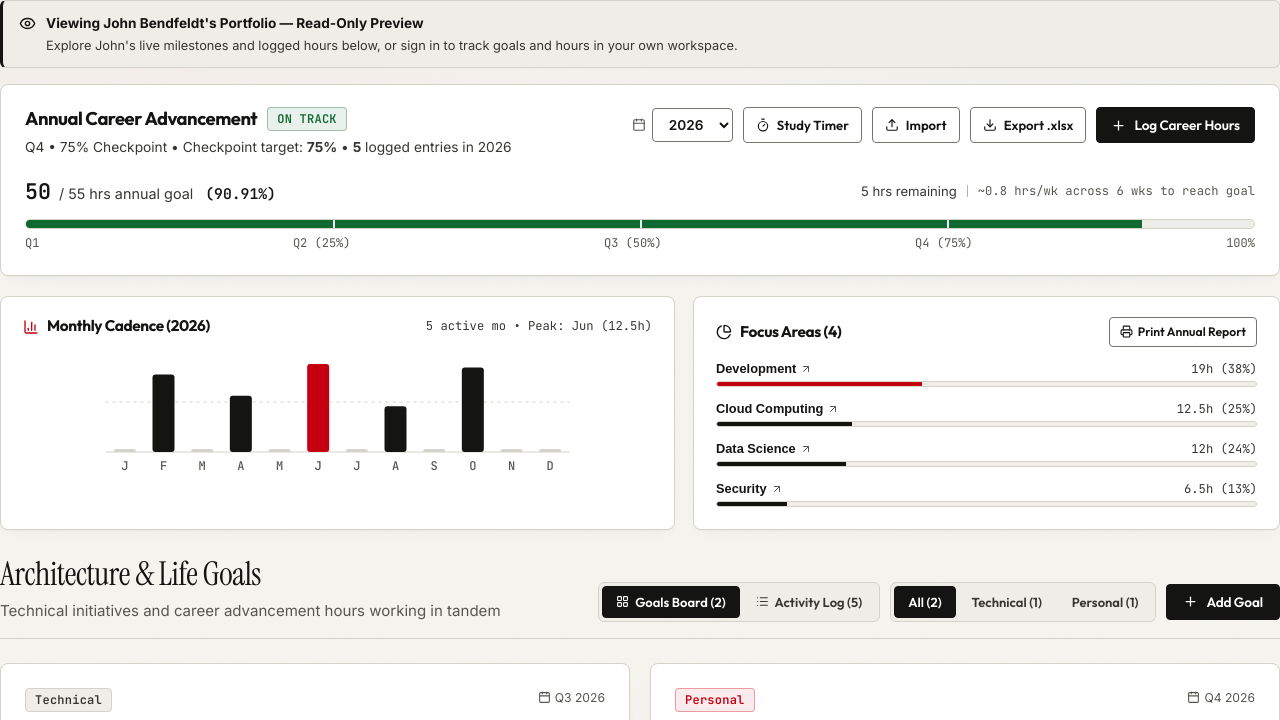
Scenario: UI Components, Modals & Sanitization Boundaries › GoalsSection › filters goals by category and surfaces 403 write-lock banner for guest users
Click the button "Technical (1)": point(1007, 602) [958,586,1056,618]
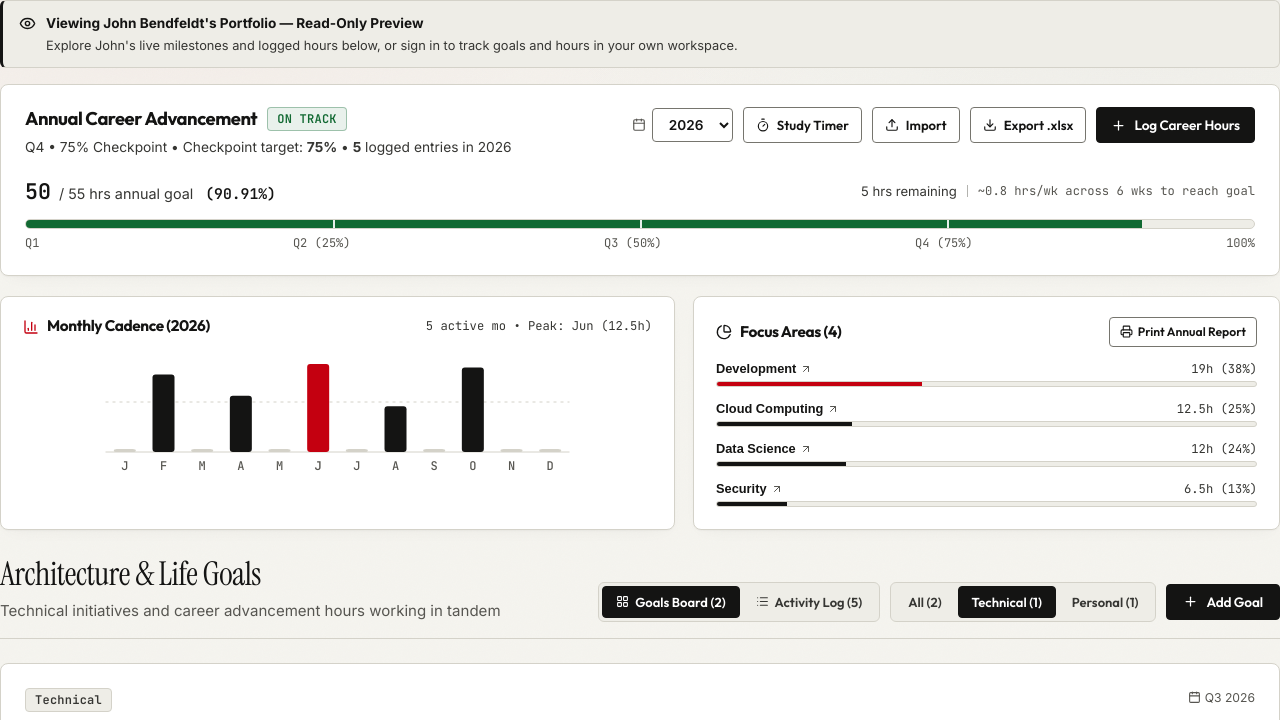
Click the button "Personal (1)": point(1105, 602) [1058,586,1152,618]
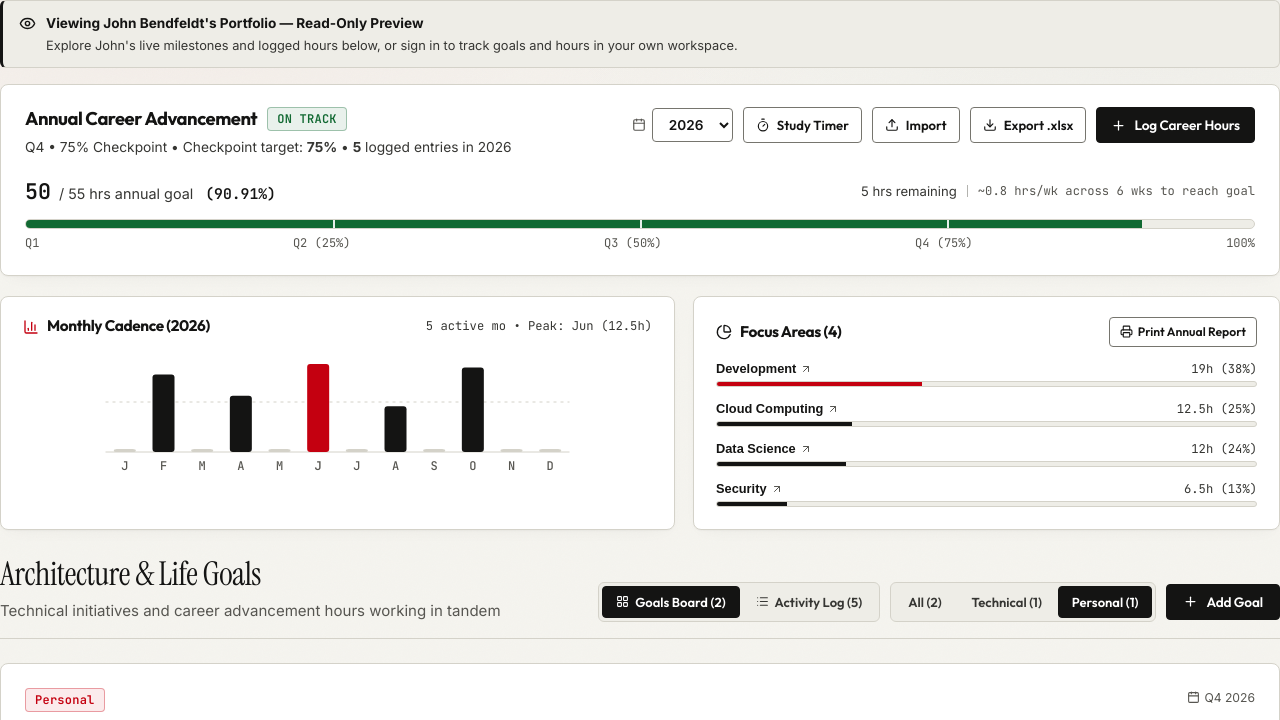
Click the button "Add Goal": point(1223, 602) [1166,584,1279,620]
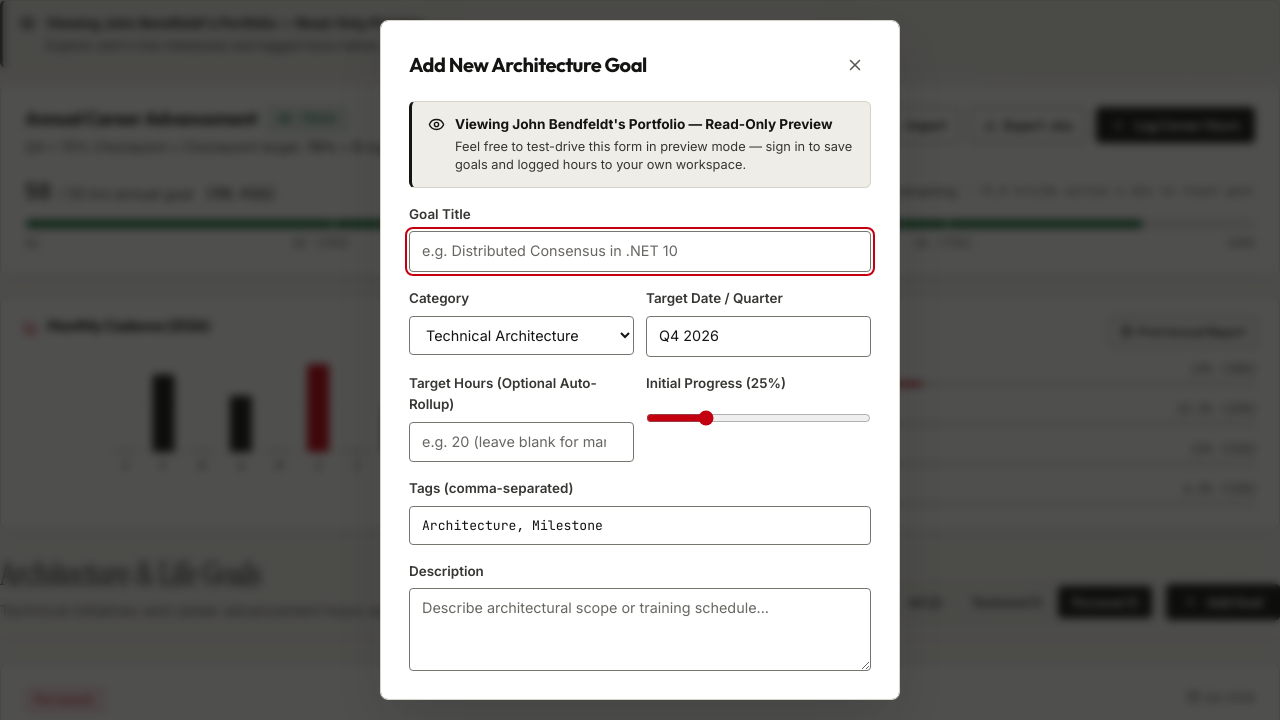
In the field with placeholder "e.g. Distributed Consensus in .NET 10": point(640, 252) [409,231,871,272], type "Unauthorized Guest Goal"
(page scrolled)
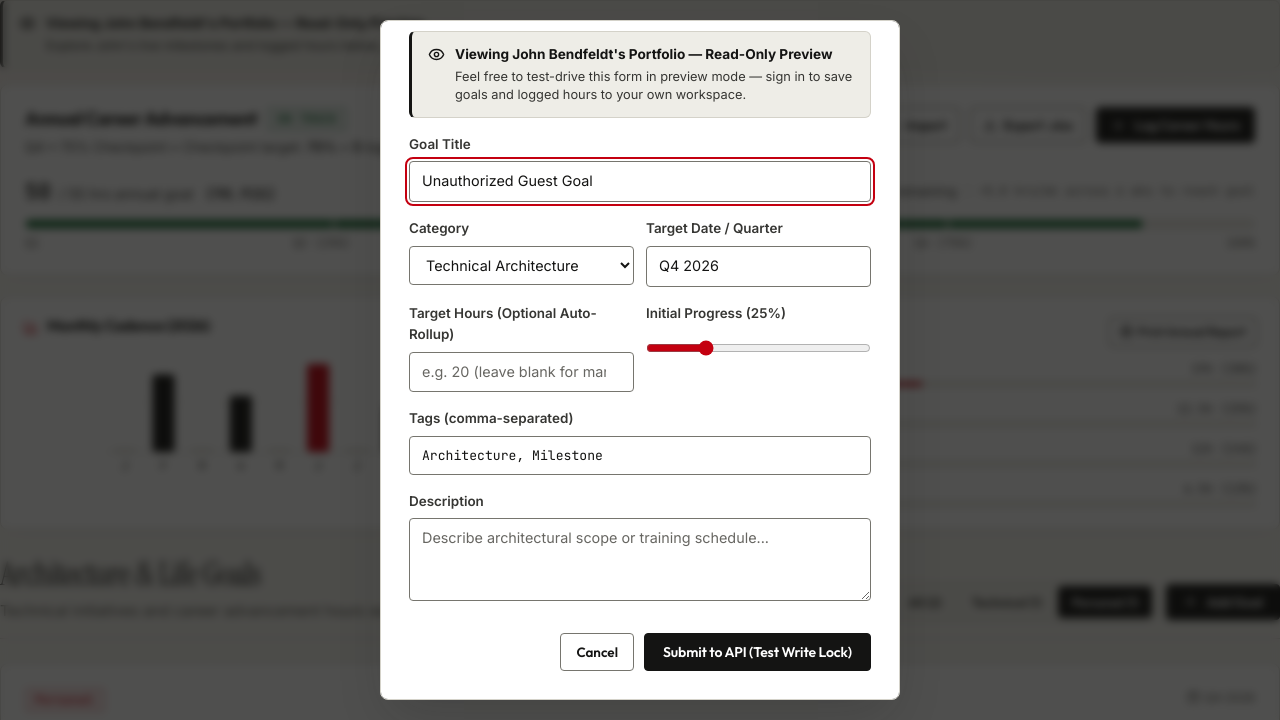
Click the button "Submit to API (Test Write Lock)": point(758, 652) [644,633,871,671]
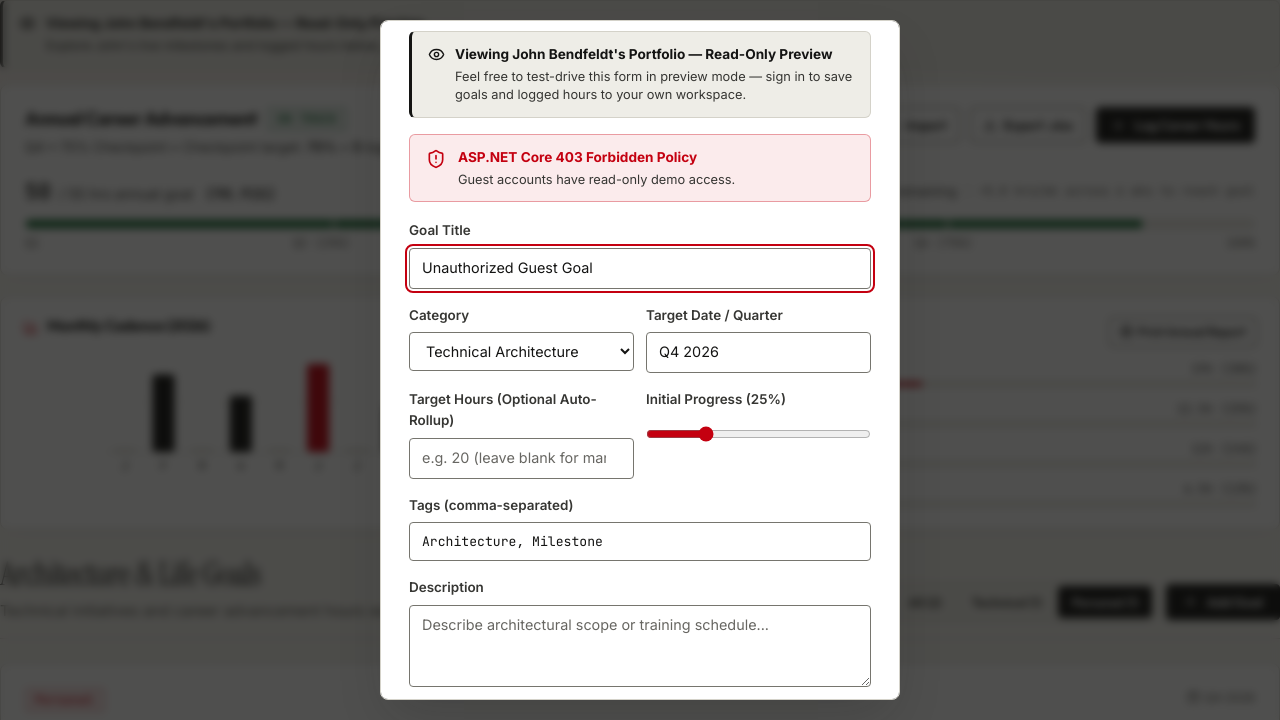
Check: the text "ASP.NET Core 403 Forbidden Policy" is shown, box [458,147,735,169]
